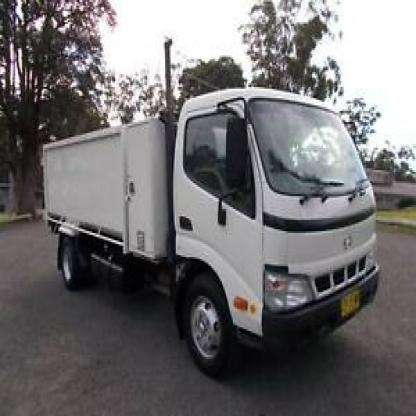dump_truck: (36, 74, 386, 379)
